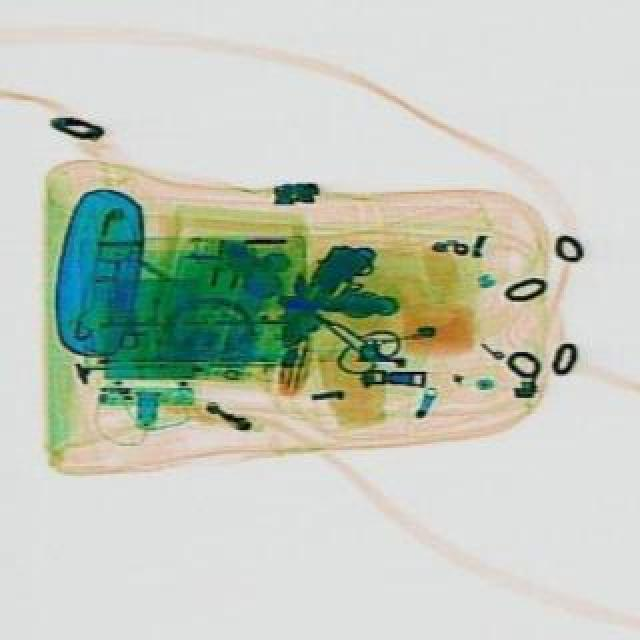pliers: (288, 284, 406, 388)
